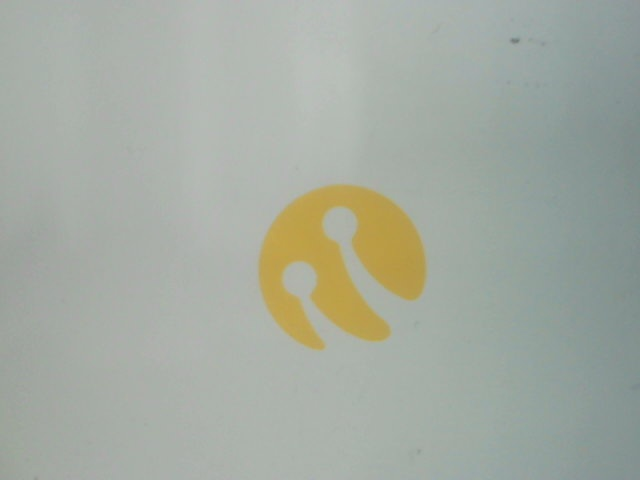AV_H3600Yellow: (219, 165, 449, 352)
